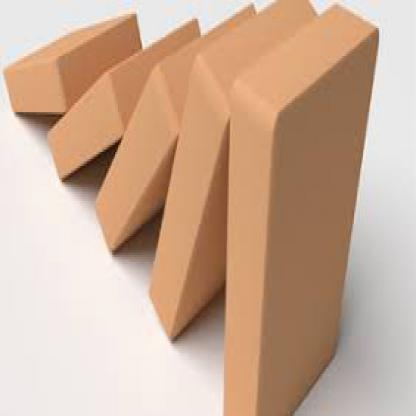paquete: (216, 2, 398, 409), (155, 2, 333, 328), (92, 9, 246, 255), (44, 24, 204, 182), (3, 3, 143, 122)
